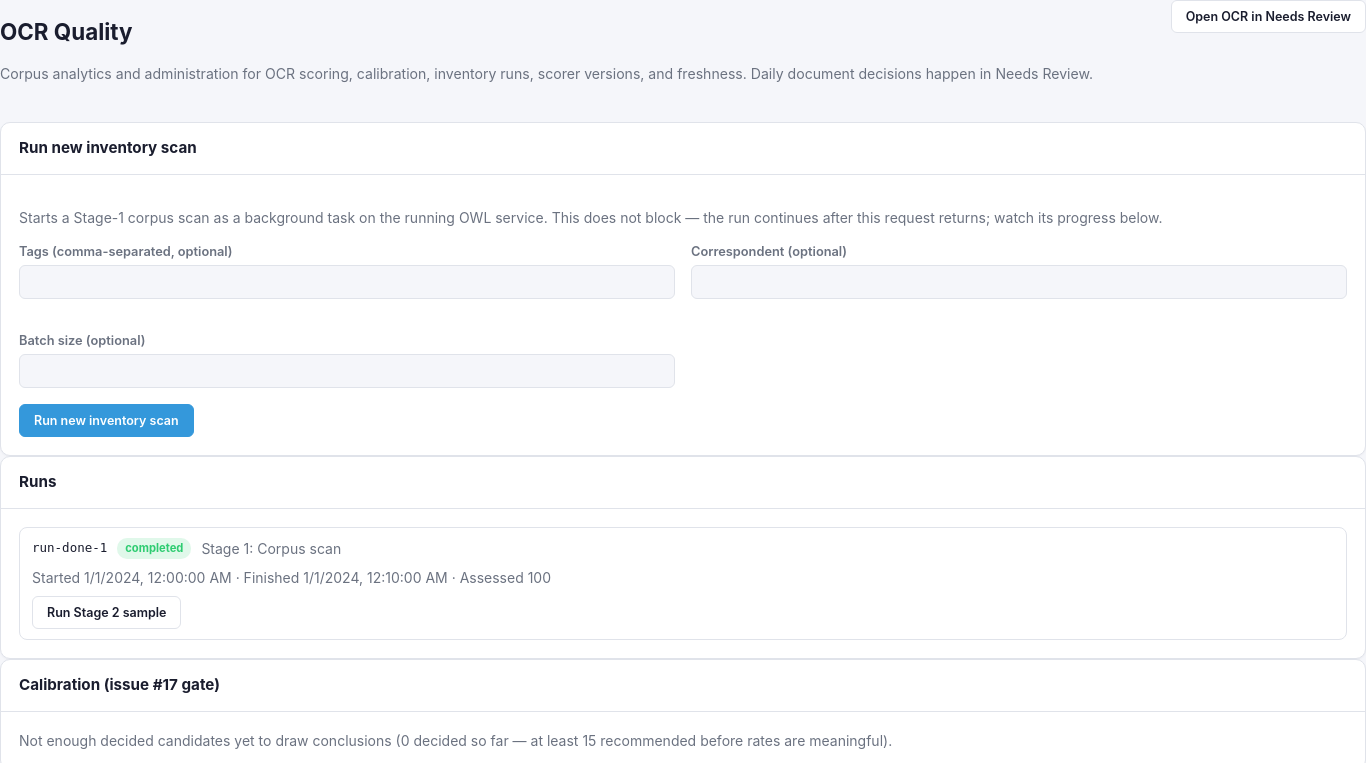
Test: OcrQualityDashboard — Runs panel (manual trigger, issue #30) › offers a Stage 2 sample action for a completed Stage-1 run and starts a sample
Expected: the text "run-done-1" is shown, [32,539,107,558]
Click the button "Run Stage 2 sample" at coordinates (107, 612), box [32,596,182,629]
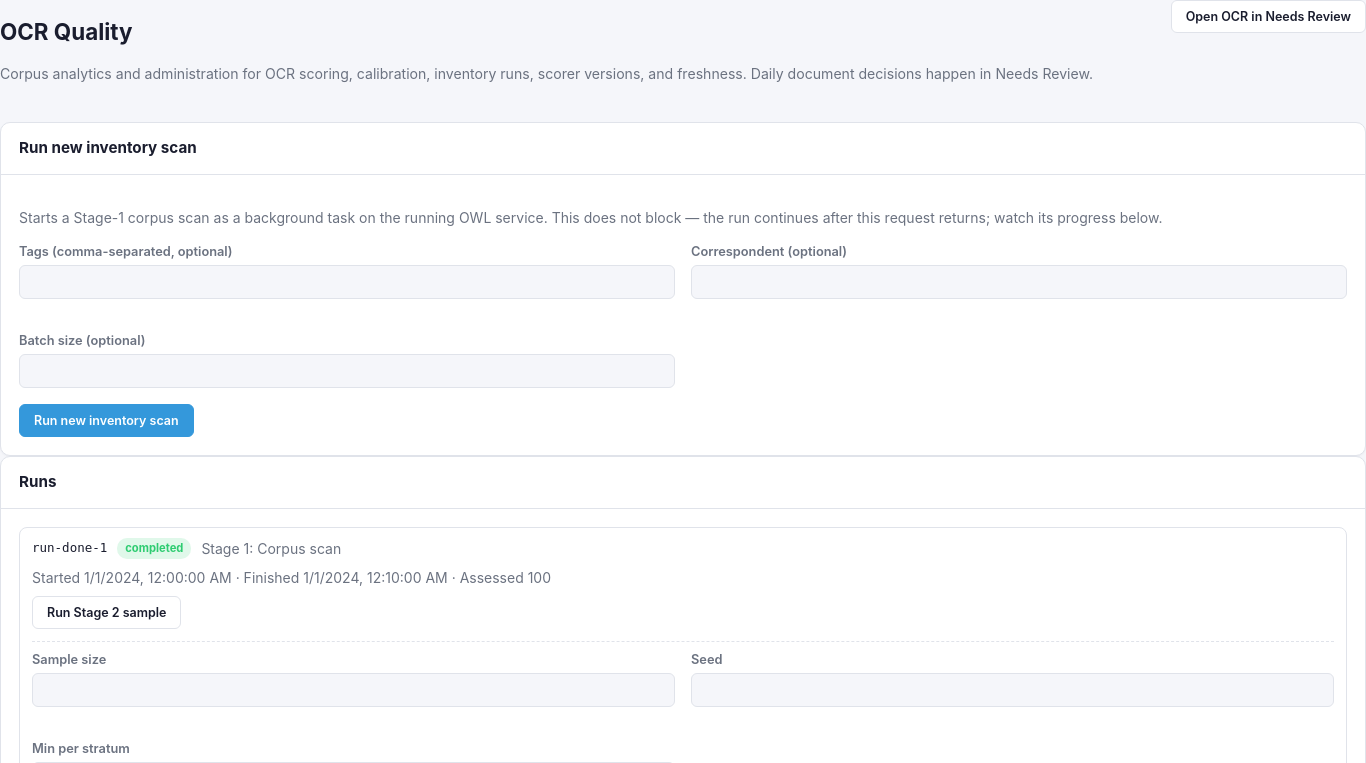
Type "50" into the number field labelled "Sample size" at coordinates (354, 690), box [32,673,675,707]
(page scrolled)
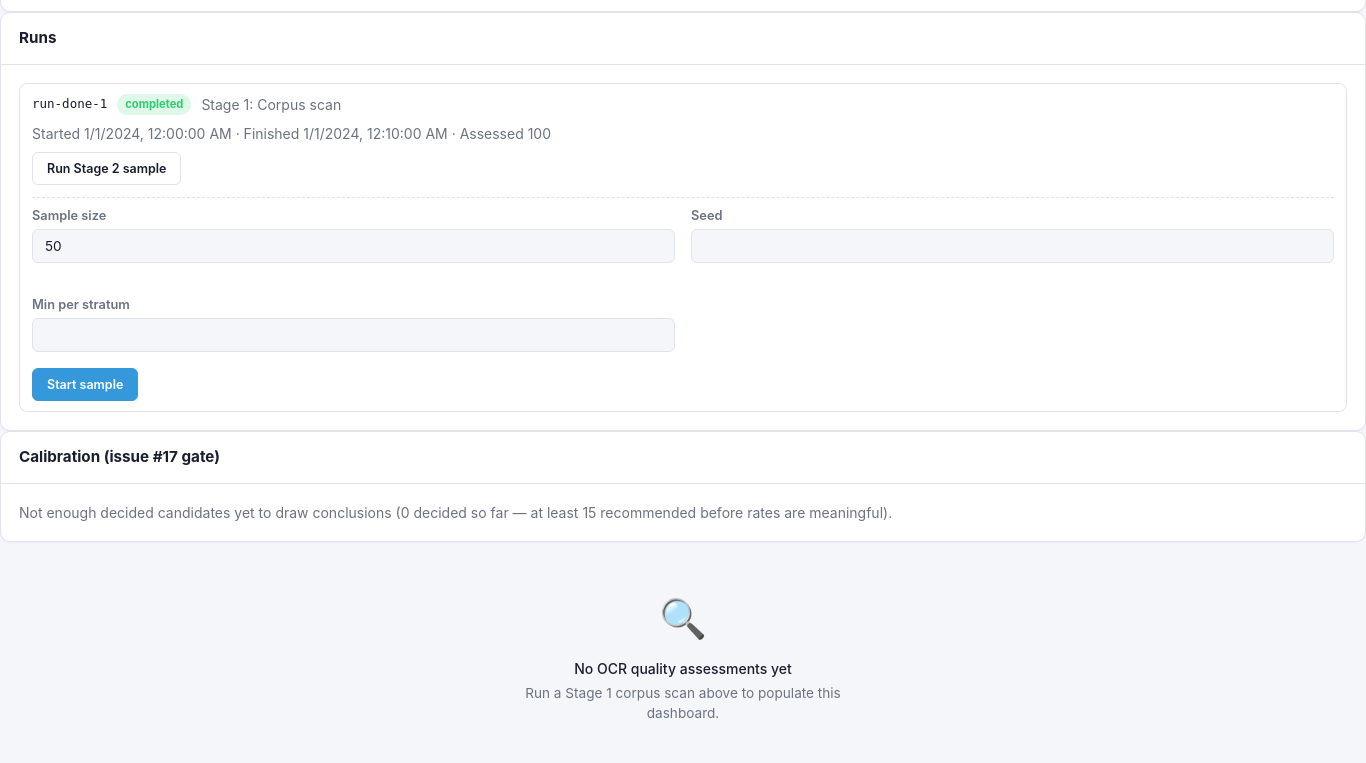
Click the button "Start sample" at coordinates (85, 385), box [32,368,138,401]
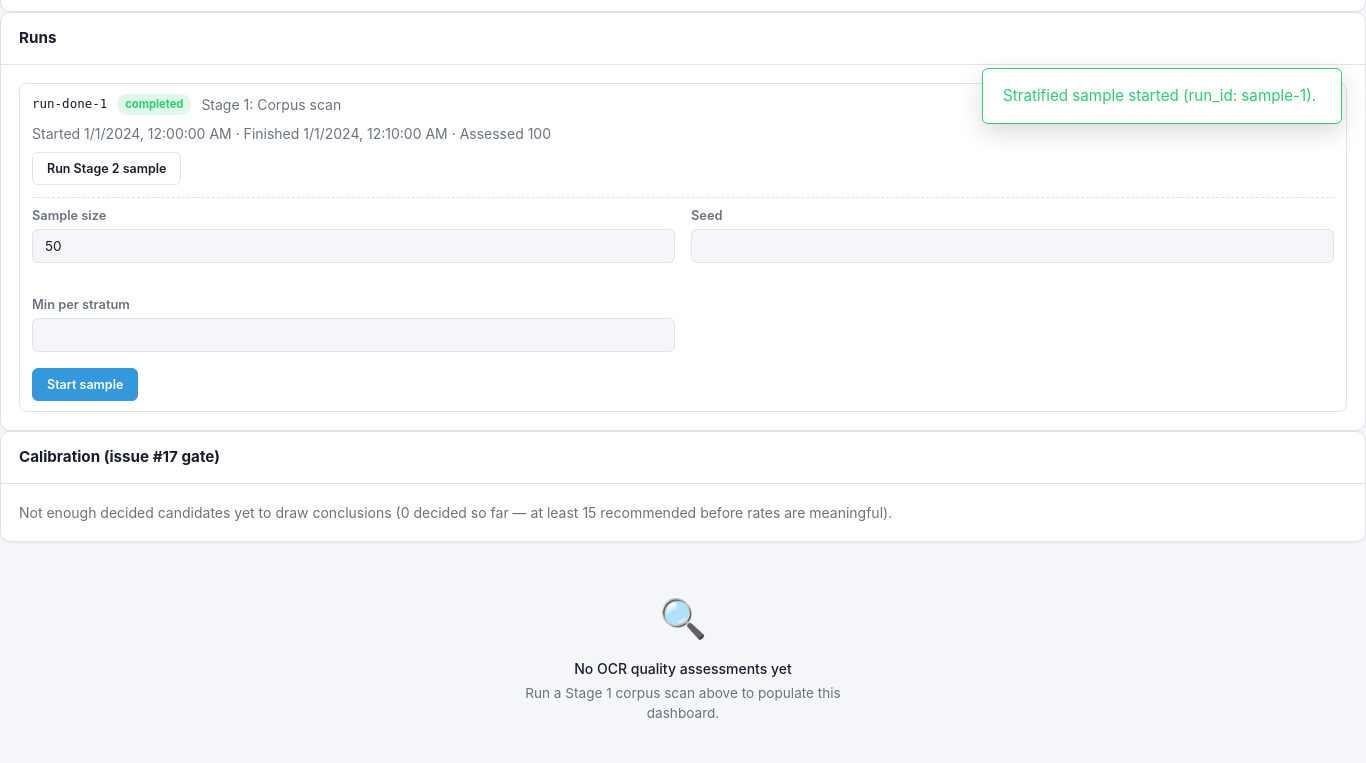
Expected: the text "Stratified sample started (run_id: sample-1)." is shown, [1003,85,1321,107]
